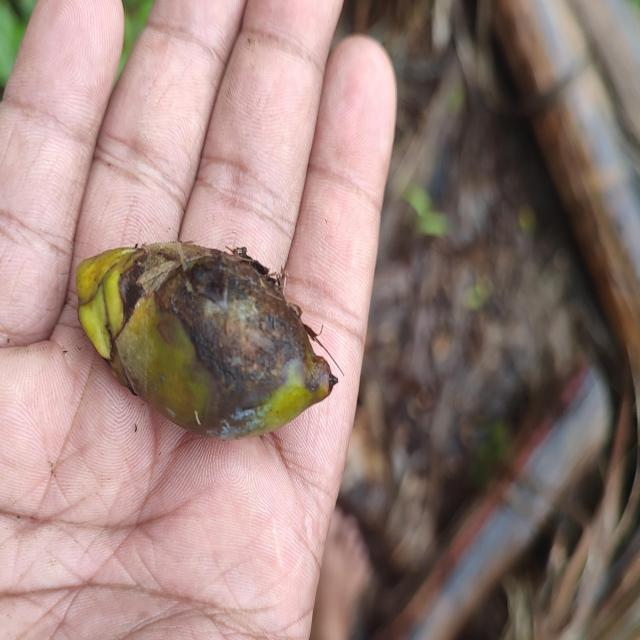damaged: (70, 238, 339, 443)
